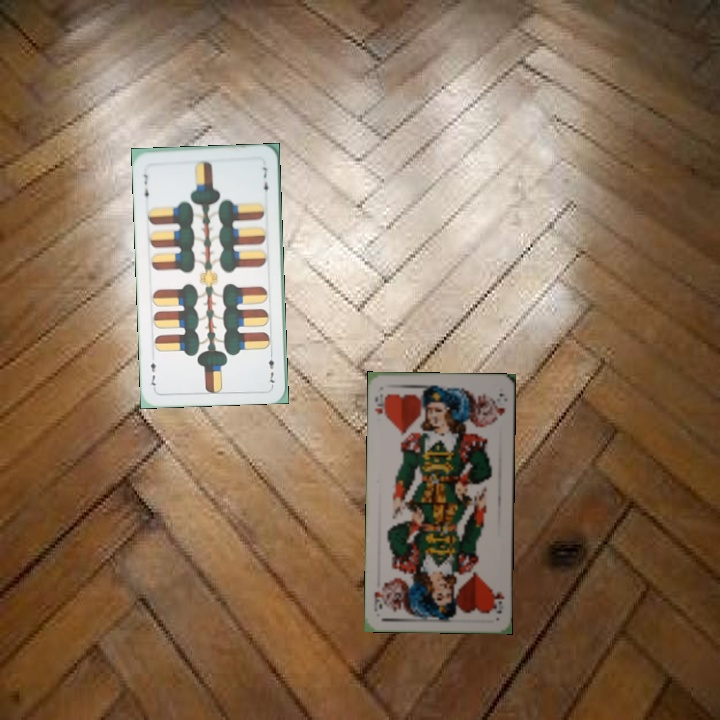E7: (265, 347, 277, 387), (140, 170, 151, 203)
HO: (371, 390, 390, 421), (488, 585, 507, 615)
